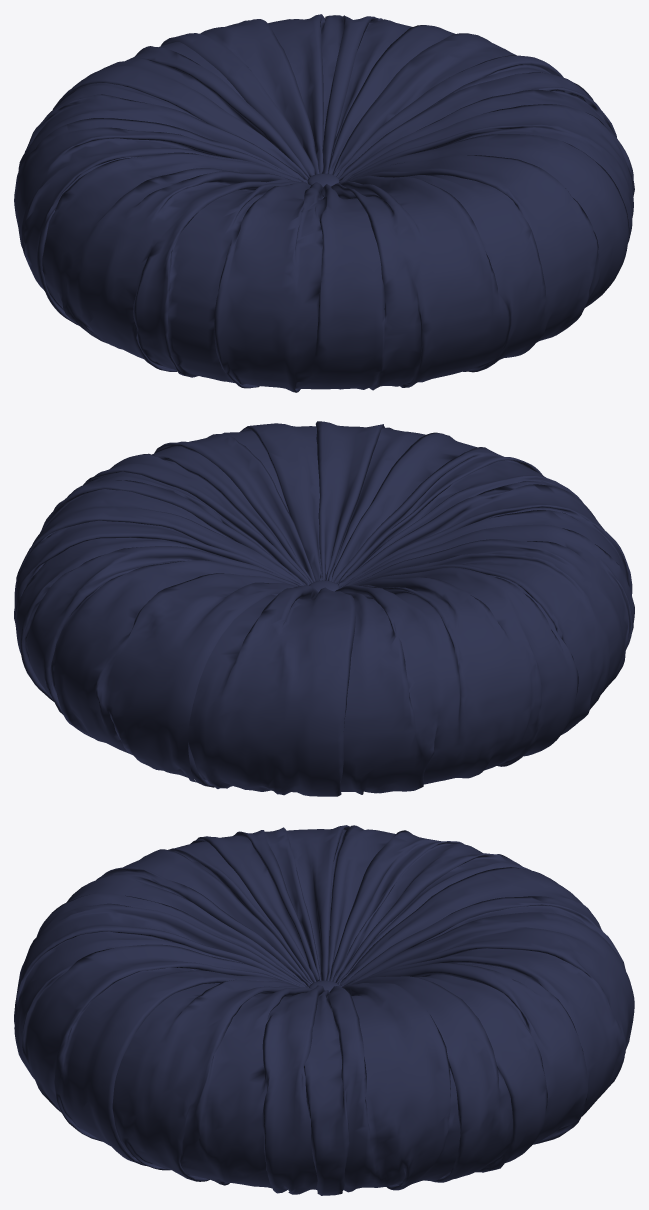
Rendered from pouf.glb.
The picture shows the model from 3 angles, top to bottom: view 1: azimuth 30°, elevation 25°; view 2: azimuth 150°, elevation 25°; view 3: azimuth 270°, elevation 25°; orthographic projection.
Parts seen in each view (by area): view 1: SpecularSilkPouf; view 2: SpecularSilkPouf; view 3: SpecularSilkPouf.
Boxes of the visible parts, <box> form: SpecularSilkPouf: <box>14,14,634,392</box>; SpecularSilkPouf: <box>14,421,634,796</box>; SpecularSilkPouf: <box>14,825,634,1195</box>.
Size of the model in its own units: 0.6099 by 0.1978 by 0.61.
